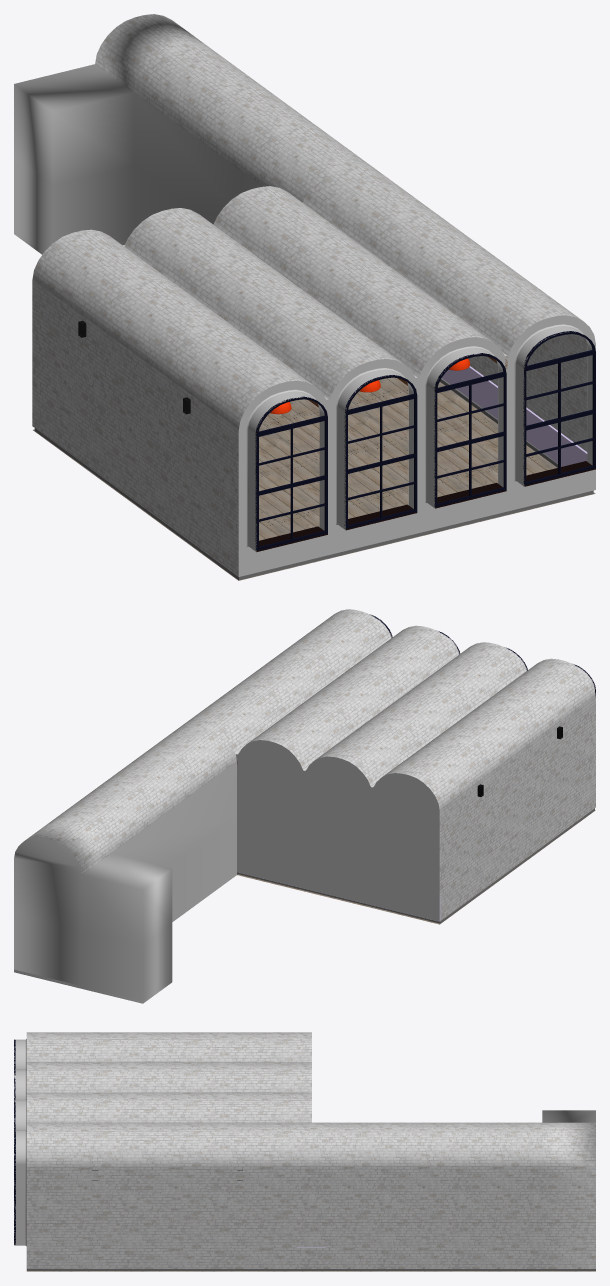
The model's file is TestLightsNew_NoLights.FBX.
3 views of the same model, one above another, from view 1: azimuth 30°, elevation 25°; view 2: azimuth 150°, elevation 25°; view 3: azimuth 270°, elevation 25° (orthographic). The views are drawn at different scales.
Parts seen in each view (by area): view 1: wall, windowwall (2), floor, window_ (4), window_, window_ (2), window_ (3), lowerpanel (2), BASEBOARD, windowsill; view 2: wall, wall (2), BASEBOARD, floor; view 3: wall, windowwall (2), BASEBOARD, floor.
Part boxes in pixels (bbox=[...]): wall: bbox=[14, 14, 587, 576]; windowwall (2): bbox=[238, 315, 595, 576]; floor: bbox=[33, 377, 595, 580]; window_ (4): bbox=[255, 396, 327, 550]; window_: bbox=[523, 331, 595, 485]; window_ (2): bbox=[434, 353, 506, 507]; window_ (3): bbox=[344, 375, 417, 528]; lowerpanel (2): bbox=[442, 366, 587, 466]; BASEBOARD: bbox=[14, 230, 593, 580]; windowsill: bbox=[256, 461, 595, 551]; wall: bbox=[14, 609, 595, 1000]; wall (2): bbox=[236, 740, 439, 921]; BASEBOARD: bbox=[14, 808, 594, 1003]; floor: bbox=[237, 810, 595, 924]; wall: bbox=[26, 1032, 595, 1268]; windowwall (2): bbox=[14, 1039, 26, 1245]; BASEBOARD: bbox=[27, 1269, 595, 1270]; floor: bbox=[26, 1269, 595, 1271].
Bounding box in the file's own units: 10.16 × 5.01 × 20.39.
